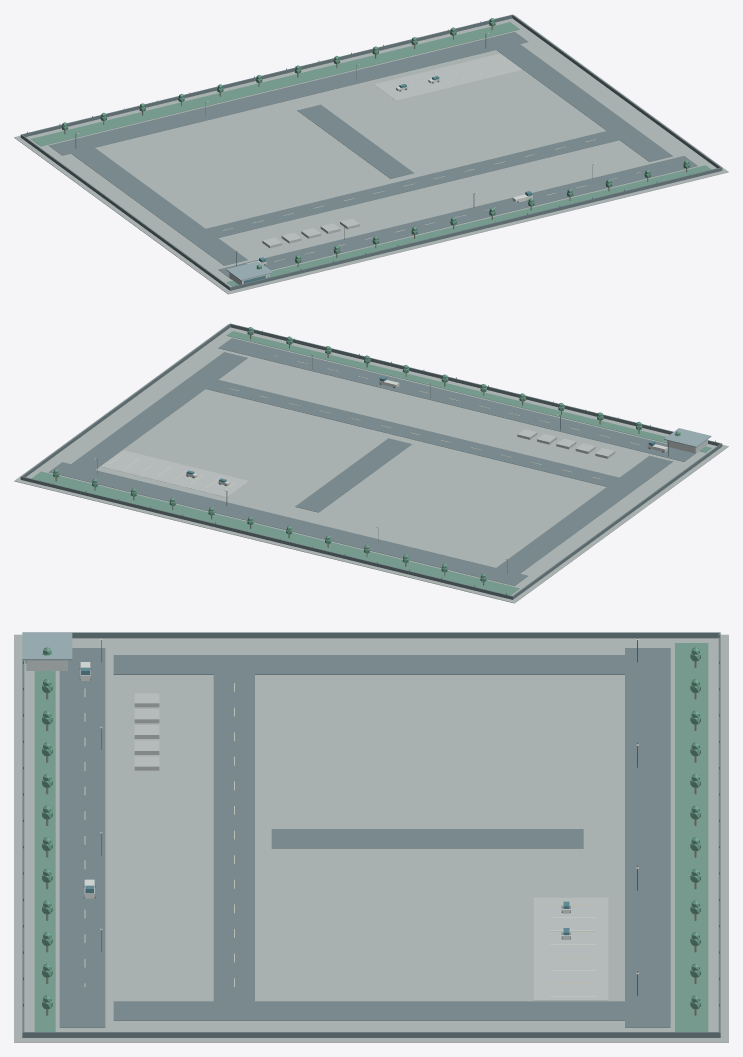
The model's file is ground.glb.
3 views of the same model, one above another, from view 1: azimuth 30°, elevation 25°; view 2: azimuth 150°, elevation 25°; view 3: azimuth 270°, elevation 25° (orthographic). The views are drawn at different scales.
Parts seen in each view (by area): view 1: campus_base, campus_ring_road.001, campus_ring_road, huzhou_center_road, landscape_verge, campus_ring_road.002, campus_ring_road.003, landscape_verge.001, parking_pavement, huzhou_process_lane, campus_perimeter, campus_perimeter.001 (+3 smaller); view 2: campus_base, campus_ring_road.001, campus_ring_road, huzhou_center_road, landscape_verge, campus_ring_road.003, campus_ring_road.002, landscape_verge.001, parking_pavement, huzhou_process_lane, campus_perimeter.001, campus_perimeter (+3 smaller); view 3: campus_base, campus_ring_road.001, campus_ring_road, huzhou_center_road, landscape_verge, campus_ring_road.002, campus_ring_road.003, parking_pavement, landscape_verge.001, huzhou_process_lane, campus_perimeter.002, campus_perimeter.003 (+3 smaller).
Part boxes in pixels (left/top/right/bottom): campus_base: left=14, top=15, right=728, bottom=294; campus_ring_road.001: left=48, top=32, right=528, bottom=155; campus_ring_road: left=218, top=156, right=697, bottom=279; huzhou_center_road: left=206, top=125, right=637, bottom=238; landscape_verge: left=31, top=22, right=519, bottom=146; campus_ring_road.002: left=71, top=147, right=247, bottom=265; campus_ring_road.003: left=496, top=44, right=672, bottom=161; landscape_verge.001: left=227, top=165, right=711, bottom=286; parking_pavement: left=374, top=53, right=522, bottom=100; huzhou_process_lane: left=297, top=104, right=413, bottom=178; campus_perimeter: left=229, top=167, right=720, bottom=290; campus_perimeter.001: left=20, top=14, right=512, bottom=137; campus_base: left=14, top=324, right=728, bottom=603; campus_ring_road.001: left=49, top=462, right=528, bottom=585; campus_ring_road: left=218, top=338, right=697, bottom=461; huzhou_center_road: left=185, top=374, right=642, bottom=492; landscape_verge: left=31, top=471, right=519, bottom=595; campus_ring_road.003: left=71, top=352, right=247, bottom=469; campus_ring_road.002: left=496, top=455, right=672, bottom=573; landscape_verge.001: left=226, top=331, right=711, bottom=452; parking_pavement: left=101, top=450, right=248, bottom=497; huzhou_process_lane: left=295, top=438, right=411, bottom=512; campus_perimeter.001: left=20, top=476, right=513, bottom=599; campus_perimeter: left=230, top=323, right=722, bottom=446; campus_base: left=14, top=634, right=728, bottom=1042; campus_ring_road.001: left=625, top=648, right=670, bottom=1027; campus_ring_road: left=59, top=648, right=105, bottom=1027; huzhou_center_road: left=213, top=655, right=254, bottom=1018; landscape_verge: left=675, top=643, right=708, bottom=1031; campus_ring_road.002: left=113, top=655, right=624, bottom=674; campus_ring_road.003: left=113, top=1001, right=624, bottom=1020; parking_pavement: left=533, top=897, right=608, bottom=1000; landscape_verge.001: left=34, top=671, right=55, bottom=1031; huzhou_process_lane: left=271, top=829, right=583, bottom=848; campus_perimeter.002: left=24, top=632, right=718, bottom=638; campus_perimeter.003: left=22, top=1032, right=719, bottom=1037.
Size of the model in its own units: 232 by 6.93 by 172.
